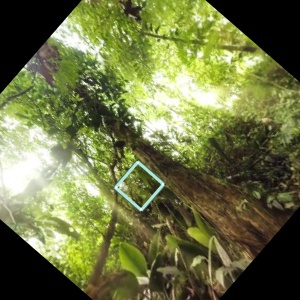square: (111, 157, 167, 214)
